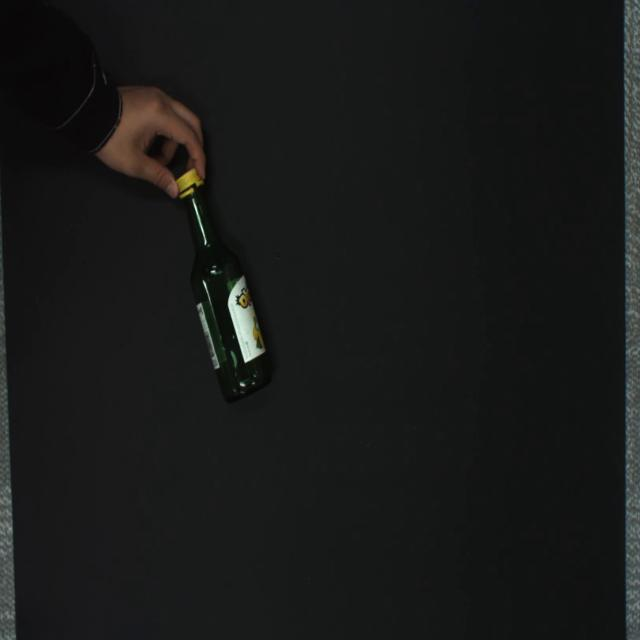soju-bottle: (176, 168, 273, 402)
